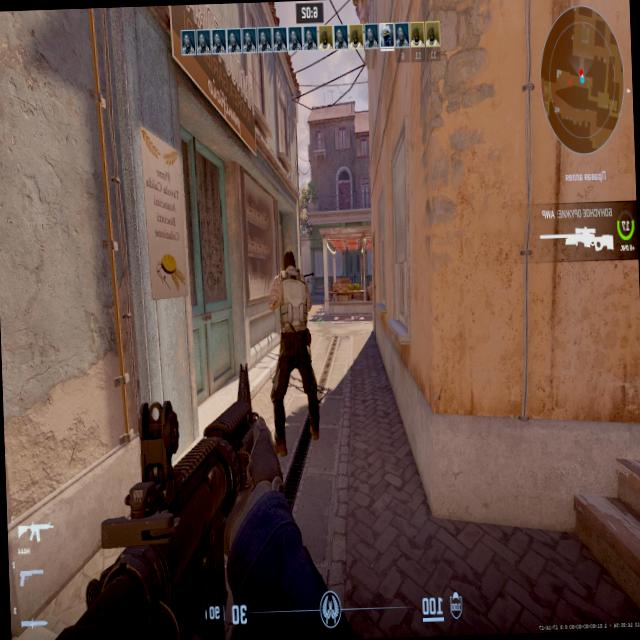T: (270, 256, 308, 430)
T_heat: (281, 258, 292, 279)
